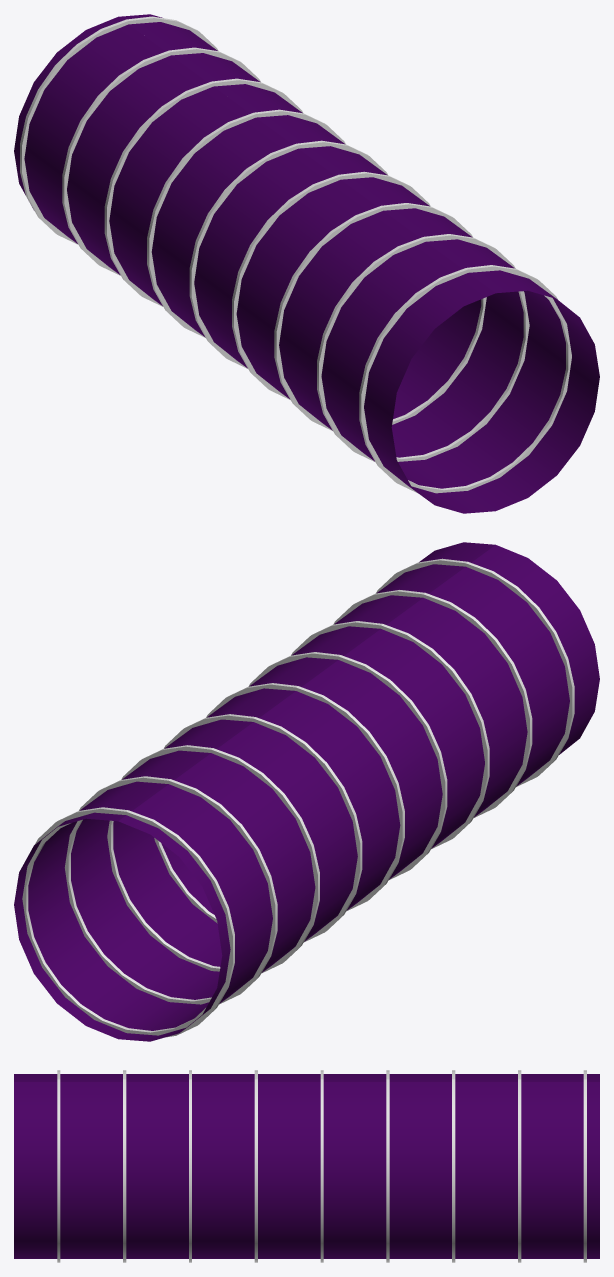
File: Tunnel_FInal FBX.fbx
The picture shows the model from 3 angles, top to bottom: view 1: azimuth 30°, elevation 25°; view 2: azimuth 150°, elevation 25°; view 3: azimuth 270°, elevation 25°; orthographic projection. The views are drawn at different scales.
Parts seen in each view (by area): view 1: Tunnel, pCube51, pCube50, pCube49, pCube45, pCube47, pCube44, pCube48, pCube46, pCube43; view 2: Tunnel, pCube43, pCube44, pCube45, pCube46, pCube48, pCube50, pCube51, pCube47, pCube49; view 3: Tunnel, pCube43, pCube44, pCube45, pCube46, pCube47, pCube48, pCube50, pCube51, pCube49.
Part boxes in pixels (x1,y1,x2,y2): Tunnel: [14, 14, 599, 513]; pCube51: [359, 265, 571, 493]; pCube50: [317, 234, 529, 462]; pCube49: [274, 203, 486, 430]; pCube45: [104, 78, 303, 306]; pCube47: [189, 140, 387, 368]; pCube44: [62, 47, 260, 275]; pCube48: [232, 171, 430, 399]; pCube46: [147, 109, 345, 337]; pCube43: [20, 16, 218, 244]; Tunnel: [14, 542, 599, 1041]; pCube43: [22, 807, 234, 1037]; pCube44: [64, 776, 277, 1004]; pCube45: [107, 745, 319, 973]; pCube46: [154, 714, 362, 942]; pCube48: [248, 652, 447, 879]; pCube50: [333, 590, 532, 817]; pCube51: [376, 558, 574, 786]; pCube47: [206, 683, 404, 911]; pCube49: [291, 621, 489, 849]; Tunnel: [14, 1074, 599, 1258]; pCube43: [583, 1070, 586, 1262]; pCube44: [518, 1070, 521, 1262]; pCube45: [452, 1070, 455, 1262]; pCube46: [386, 1070, 389, 1262]; pCube47: [320, 1070, 323, 1262]; pCube48: [254, 1070, 257, 1262]; pCube50: [123, 1070, 126, 1262]; pCube51: [57, 1070, 60, 1262]; pCube49: [189, 1070, 191, 1262].
Size of the model in its own units: 326 by 328 by 1000.
